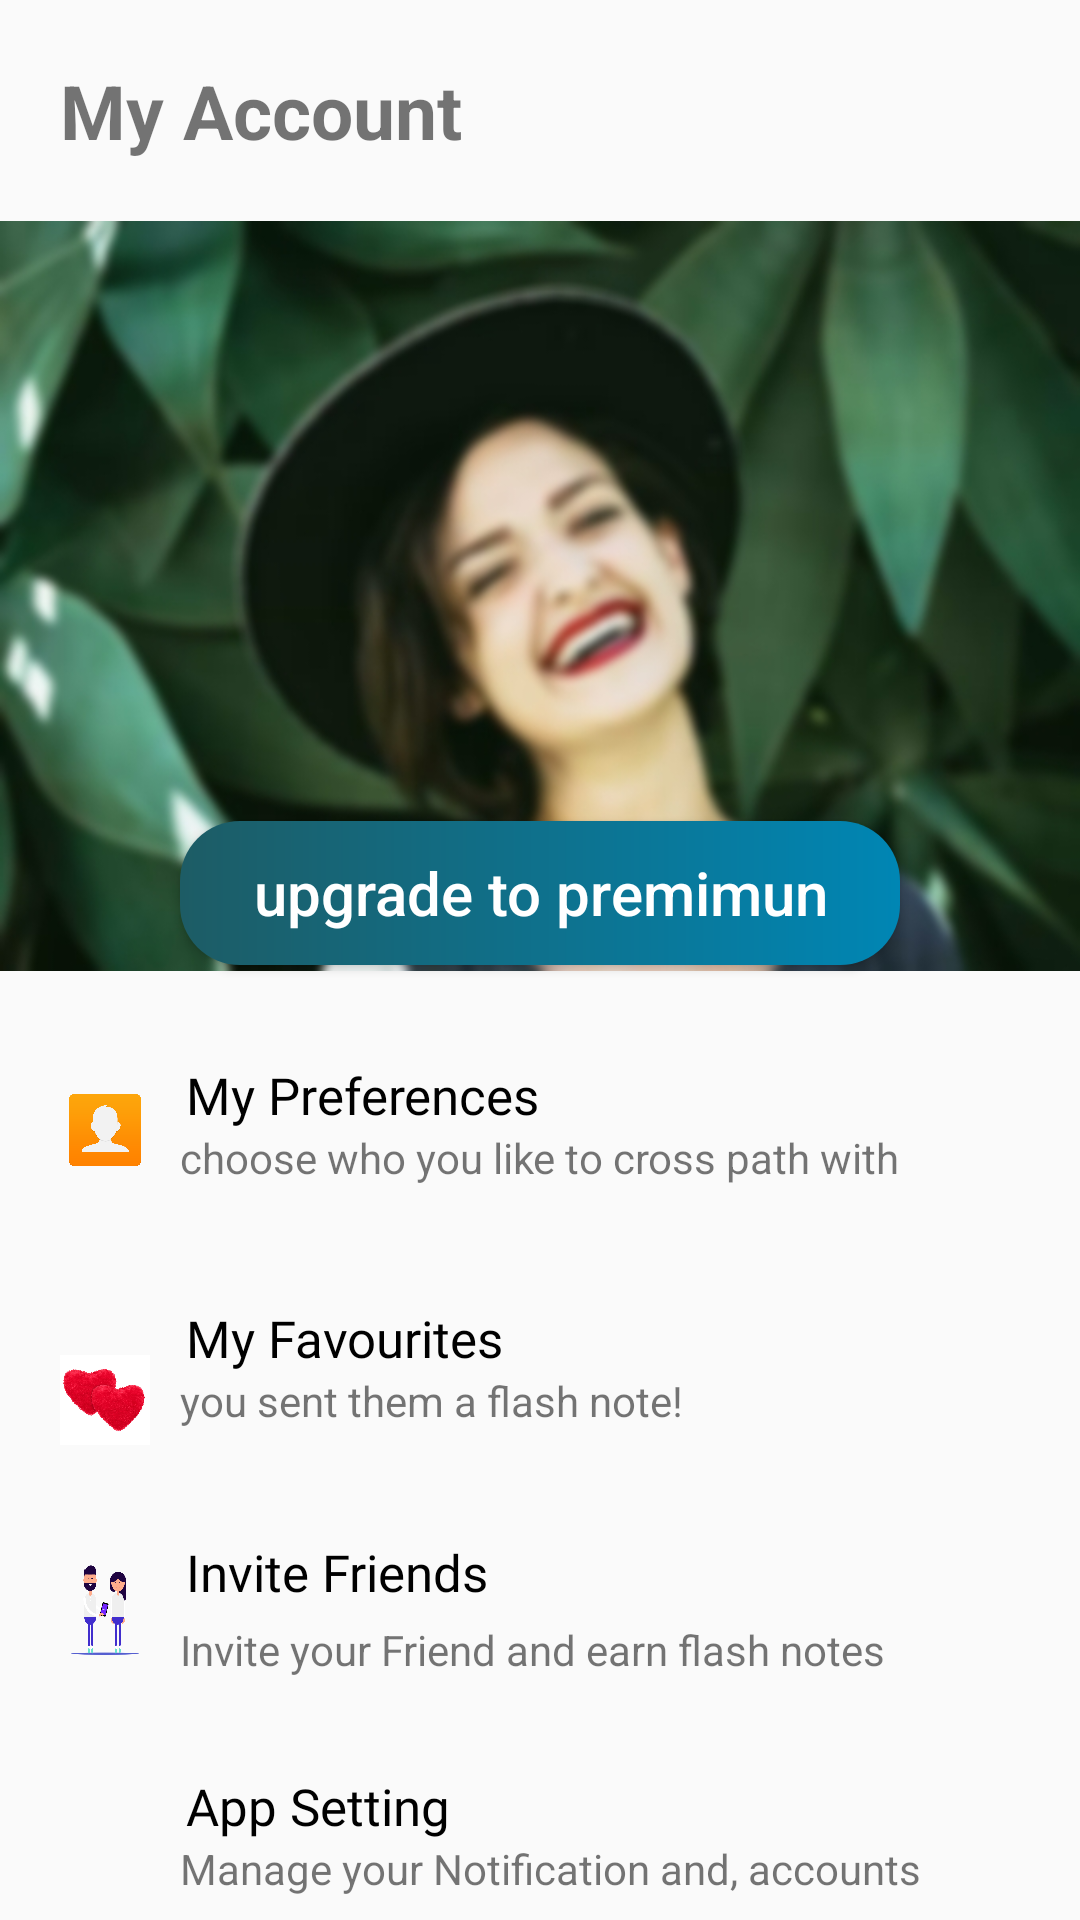

Icon bounding boxes for this 1080px x 1920px phone screenshot, format (x1, y1, x2, y2):
contacts: (69, 1094, 141, 1166)
